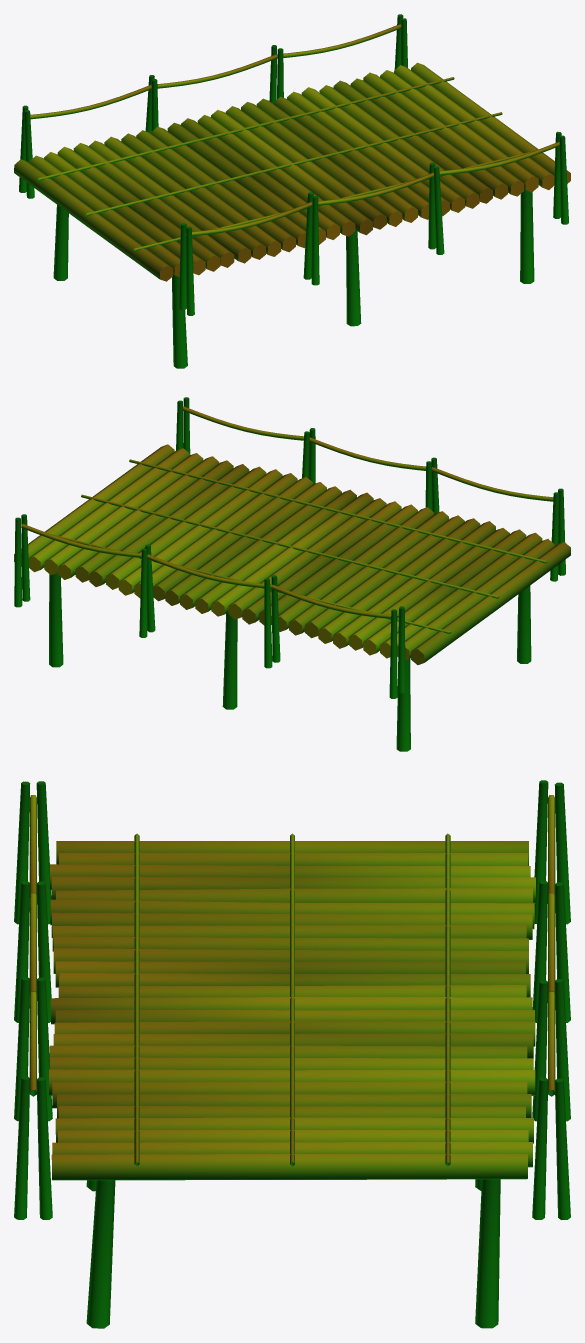
The model's file is reed_causeway_6m.glb.
3 views of the same model, one above another, from view 1: azimuth 30°, elevation 25°; view 2: azimuth 150°, elevation 25°; view 3: azimuth 270°, elevation 25° (orthographic). The views are drawn at different scales.
Parts seen in each view (by area): view 1: reed_causeway_6m; view 2: reed_causeway_6m; view 3: reed_causeway_6m.
Boxes of the visible parts, x1=… form: reed_causeway_6m: x1=14, y1=14, x2=570, y2=368; reed_causeway_6m: x1=14, y1=397, x2=570, y2=751; reed_causeway_6m: x1=14, y1=780, x2=570, y2=1328.
Size of what is drawn, in the model's own units: 6 by 2.19 by 4.3.
